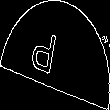P_S: (39, 26, 71, 84)
